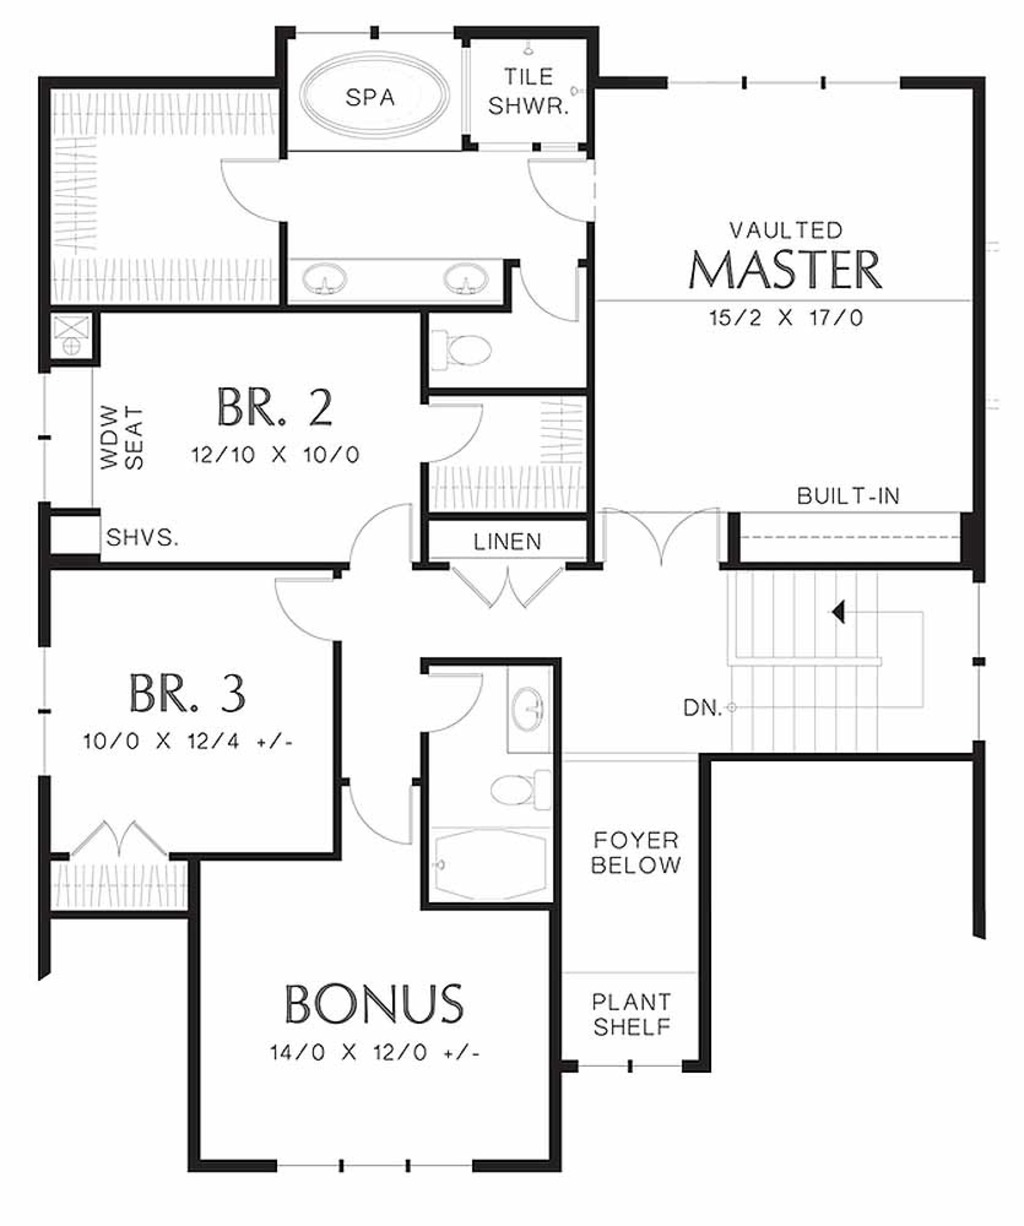door: (605, 507, 729, 560), (352, 775, 416, 862), (74, 811, 182, 862), (452, 564, 571, 611), (269, 568, 340, 640), (348, 502, 423, 568), (529, 153, 595, 226), (218, 156, 288, 223), (520, 256, 582, 326), (426, 672, 483, 736), (422, 402, 486, 458)
large_sink: (486, 762, 559, 826), (429, 323, 497, 381)
small_sink: (505, 668, 556, 753), (291, 260, 361, 304), (442, 260, 501, 306)
stairs: (723, 573, 931, 749)
tub: (431, 834, 554, 906)
